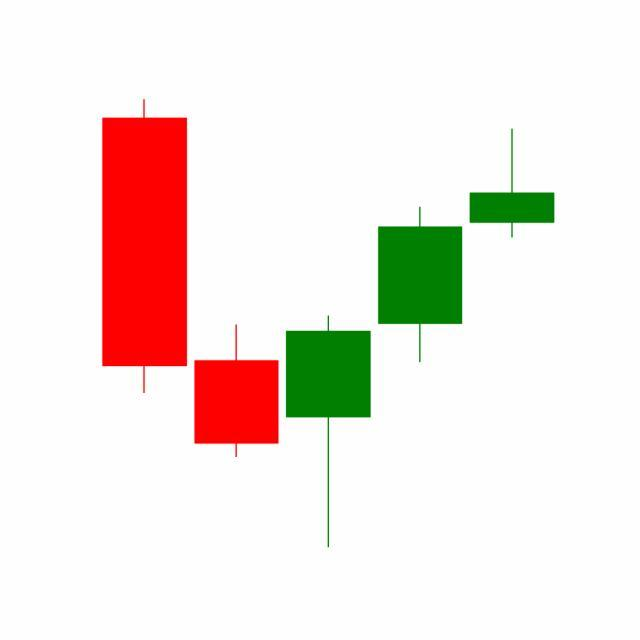Advance Block: (280, 124, 555, 548)
